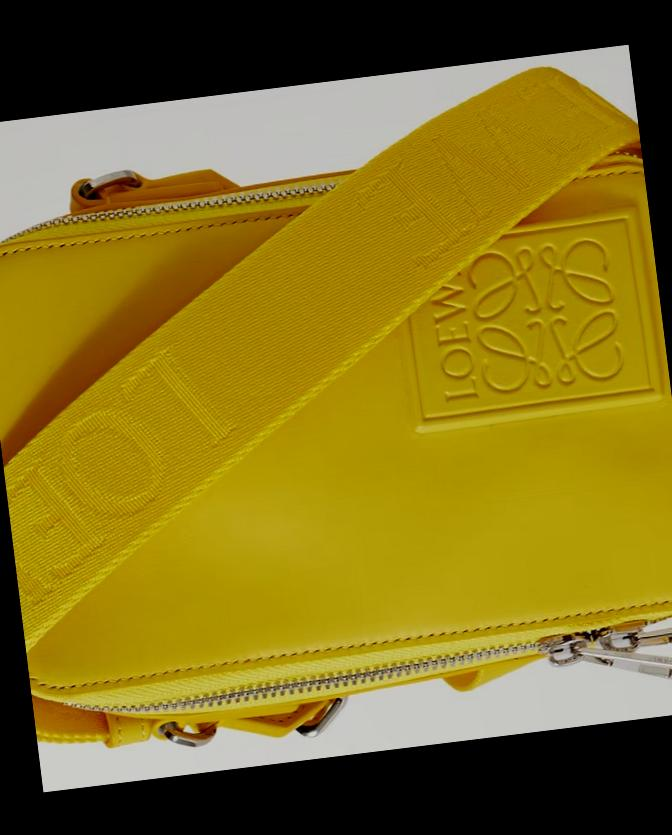LOEWE: (457, 232, 640, 398)
